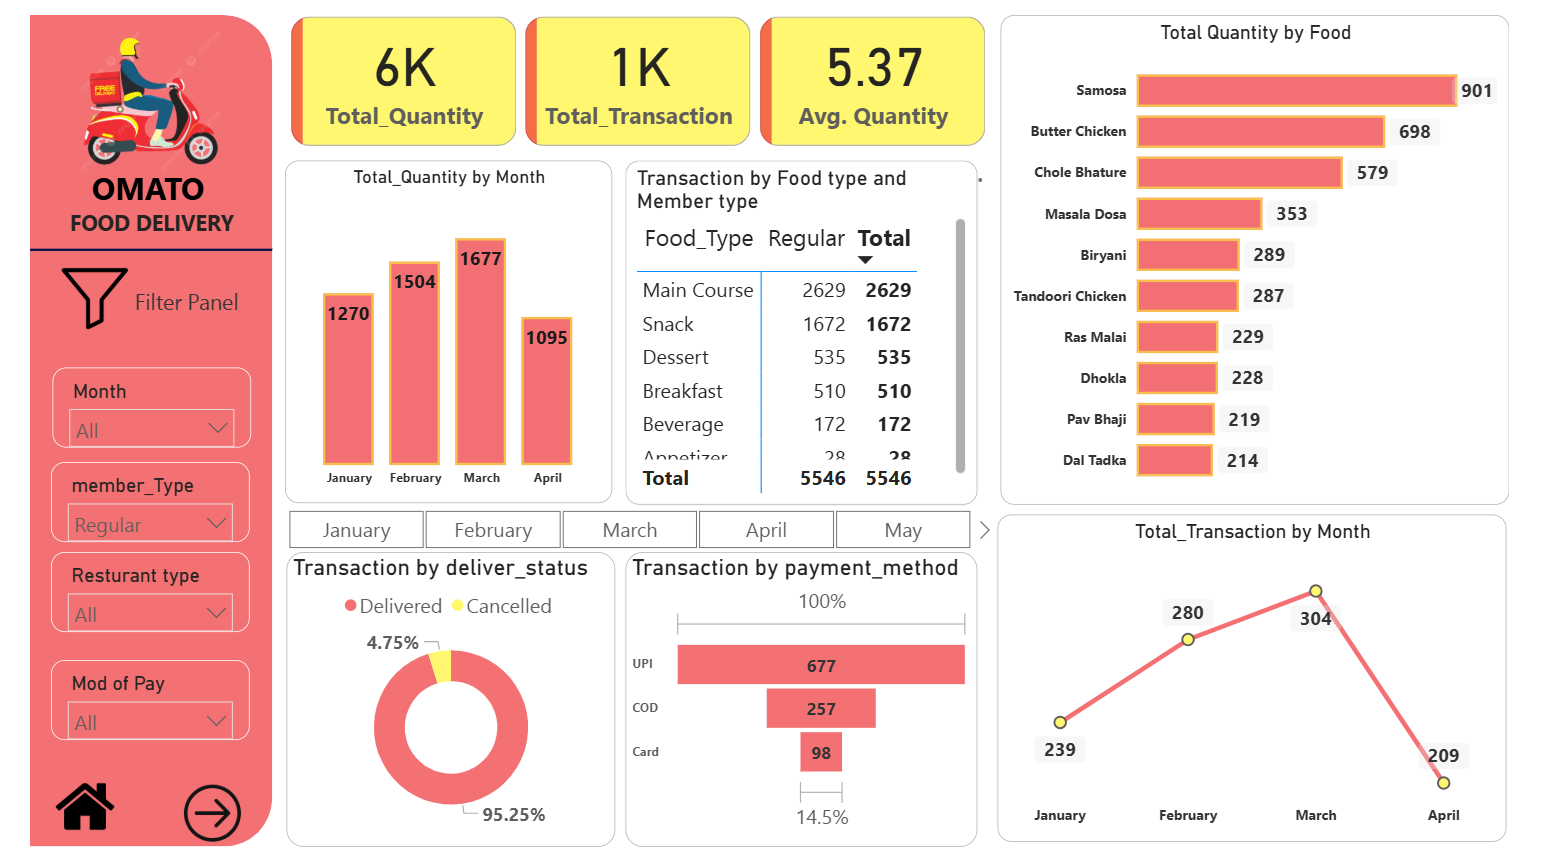

The page's visual inventory and layout, read from the dashboard file:
{"tool":"powerbi","page":{"name":"Delivery Page","canvas":[1280,720],"ordinal":0},"visuals":[{"type":"shape","box":[0,0,209.8,720],"z":0},{"type":"image","box":[0,0,209.8,149.3],"z":1000},{"type":"textbox","box":[255,0,210,150],"z":2000},{"type":"textbox","box":[13.2,126.6,185.2,77.5],"z":3000},{"type":"shape","box":[0,194.6,209.8,17],"z":4000},{"type":"cardVisual","fields":{"Data":["Sales Data (2).Total_Quantity","Sales Data (2).Total_Transaction","Sales Data (2).Avg. Quantity"]},"box":[220.3,0,612.9,125.9],"z":5000},{"type":"clusteredColumnChart","fields":{"Y":["Sales Data (2).Total_Quantity"],"Category":["Sales Data (2).orderDate.Variation.Date Hierarchy.Month"]},"box":[221.1,126.6,283.5,296.7],"z":6000},{"type":"pivotTable","title":"Transaction by Food type and Member type","fields":{"Rows":["Food_Details.Type"],"Columns":["Customer Details.member_Type"],"Values":["Sales Data (2).Total_Quantity"]},"box":[515.2,125.9,304.8,298.2],"z":7000},{"type":"donutChart","title":"Transaction by deliver_status","fields":{"Category":["Sales Data (2).deliver_status"],"Y":["Sales Data (2).Total_Transaction"]},"box":[222,464.9,284.9,255.1],"z":8000},{"type":"funnel","title":"Transaction by payment_method","fields":{"Category":["Sales Data (2).payment_method"],"Y":["Sales Data (2).Total_Transaction"]},"box":[515.2,464.9,304.8,255.1],"z":9000},{"type":"clusteredBarChart","title":"Total Quantity by Food","fields":{"Y":["Sales Data (2).Total_Quantity"],"Category":["Food_Details.Food"]},"box":[839.8,0,440.6,424.1],"z":10000},{"type":"lineChart","fields":{"Category":["Sales Data (2).orderDate.Variation.Date Hierarchy.Year","Sales Data (2).orderDate.Variation.Date Hierarchy.Month"],"Y":["Sales Data (2).Total_Transaction"]},"box":[838.2,432.3,440.6,283.3],"z":11000},{"type":"slicer","fields":{"Values":["Sales Data (2).orderDate.Variation.Date Hierarchy.Month"]},"box":[19.9,304.8,172.3,69.6],"z":12000},{"type":"slicer","fields":{"Values":["Customer Details.member_Type"]},"box":[18.2,387.6,172.3,69.6],"z":13000},{"type":"slicer","fields":{"Values":["Resturant_Details.Resturant_type"]},"box":[18.2,465.5,172.3,69.6],"z":14000},{"type":"slicer","fields":{"Values":["Sales Data (2).payment_method"]},"box":[18.2,558.2,172.3,69.6],"z":15000},{"type":"slicer","fields":{"Values":["Sales Data (2).orderDate.Variation.Date Hierarchy.Month"]},"box":[198.8,422.4,639.4,46.4],"z":16000},{"type":"image","box":[19.9,212,72.9,67.9],"z":17000},{"type":"textbox","box":[86.1,230.3,106,49.7],"z":18000},{"type":"image","box":[13.3,654.3,69.6,61.3],"z":19000},{"type":"image","box":[125.9,660.9,64.6,59.6],"z":20000}]}

Visuals, with their boxes in screenshot pixels (x1, y1, x2, y2), scaled from the page's 1280x720 canvas onto the 1546x867 screenshot:
shape: {"x1": 0, "y1": 0, "x2": 253, "y2": 866}
image: {"x1": 0, "y1": 0, "x2": 253, "y2": 180}
textbox: {"x1": 308, "y1": 0, "x2": 562, "y2": 181}
textbox: {"x1": 16, "y1": 152, "x2": 240, "y2": 246}
shape: {"x1": 0, "y1": 234, "x2": 253, "y2": 255}
cardVisual - Sales Data (2).Total_Quantity x Sales Data (2).Total_Transaction: {"x1": 266, "y1": 0, "x2": 1006, "y2": 152}
clusteredColumnChart - Sales Data (2).Total_Quantity x Sales Data (2).orderDate.Variation.Date Hierarchy.Month: {"x1": 267, "y1": 152, "x2": 609, "y2": 510}
"Transaction by Food type and Member type" pivotTable: {"x1": 622, "y1": 152, "x2": 990, "y2": 511}
"Transaction by deliver_status" donutChart: {"x1": 268, "y1": 560, "x2": 612, "y2": 866}
"Transaction by payment_method" funnel: {"x1": 622, "y1": 560, "x2": 990, "y2": 866}
"Total Quantity by Food" clusteredBarChart: {"x1": 1014, "y1": 0, "x2": 1545, "y2": 511}
lineChart - Sales Data (2).orderDate.Variation.Date Hierarchy.Year x Sales Data (2).orderDate.Variation.Date Hierarchy.Month: {"x1": 1012, "y1": 521, "x2": 1545, "y2": 862}
slicer - Sales Data (2).orderDate.Variation.Date Hierarchy.Month: {"x1": 24, "y1": 367, "x2": 232, "y2": 451}
slicer - Customer Details.member_Type: {"x1": 22, "y1": 467, "x2": 230, "y2": 551}
slicer - Resturant_Details.Resturant_type: {"x1": 22, "y1": 561, "x2": 230, "y2": 644}
slicer - Sales Data (2).payment_method: {"x1": 22, "y1": 672, "x2": 230, "y2": 756}
slicer - Sales Data (2).orderDate.Variation.Date Hierarchy.Month: {"x1": 240, "y1": 509, "x2": 1012, "y2": 565}
image: {"x1": 24, "y1": 255, "x2": 112, "y2": 337}
textbox: {"x1": 104, "y1": 277, "x2": 232, "y2": 337}
image: {"x1": 16, "y1": 788, "x2": 100, "y2": 862}
image: {"x1": 152, "y1": 796, "x2": 230, "y2": 866}
